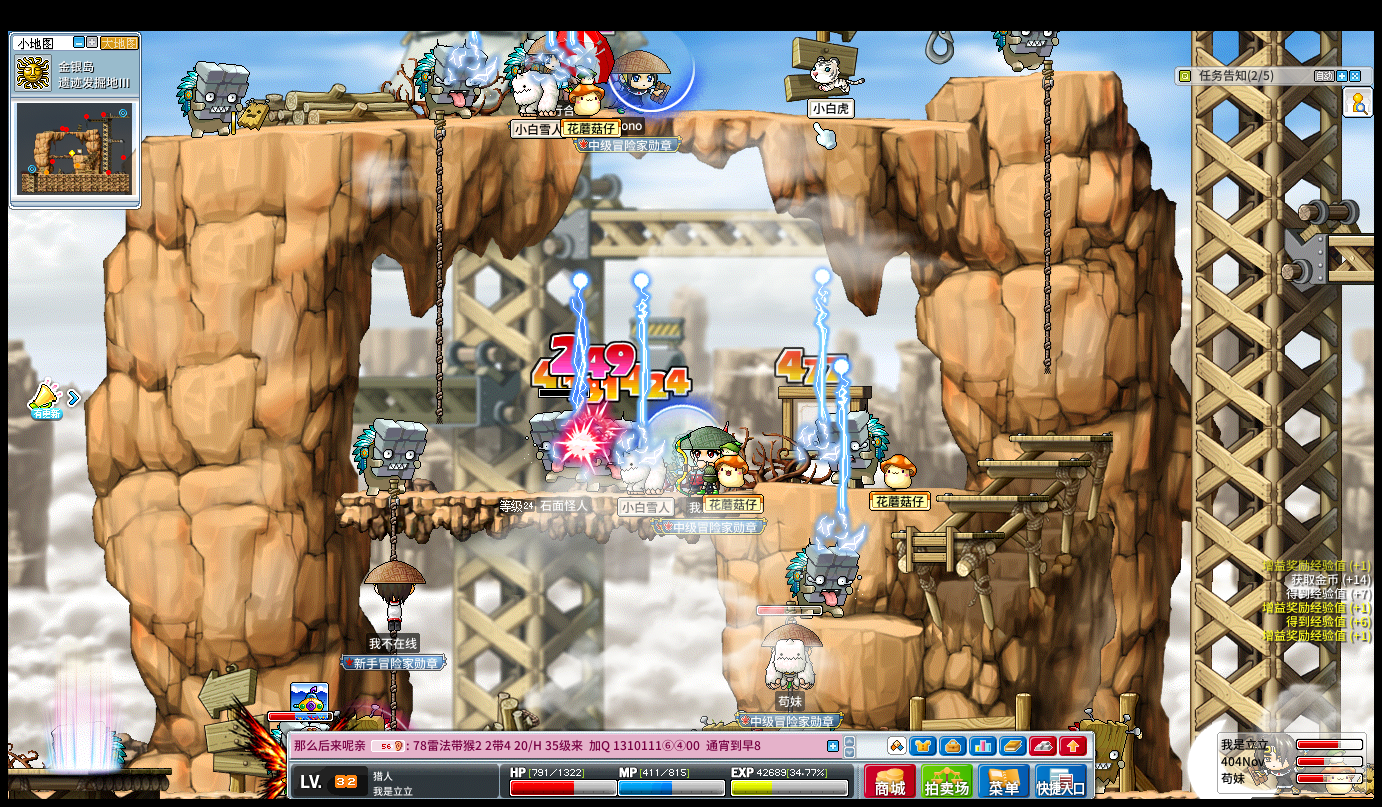floor: (139, 104, 1032, 137), (279, 107, 981, 139), (337, 488, 727, 501), (801, 615, 923, 637), (945, 63, 1121, 78), (947, 70, 1122, 83), (947, 67, 1121, 80), (757, 481, 983, 490), (4, 766, 173, 778), (786, 482, 959, 491), (1008, 429, 1112, 443), (829, 483, 962, 492), (832, 485, 963, 494), (972, 459, 1086, 467), (891, 530, 1002, 538), (939, 494, 1049, 501), (1327, 231, 1381, 243)
monster: (529, 408, 613, 488), (351, 418, 427, 496), (177, 60, 251, 138), (785, 544, 860, 620), (826, 407, 889, 485), (412, 40, 473, 120), (1086, 714, 1143, 791), (529, 408, 571, 486)
rope: (1040, 58, 1053, 385), (432, 108, 444, 440), (385, 487, 399, 561)
